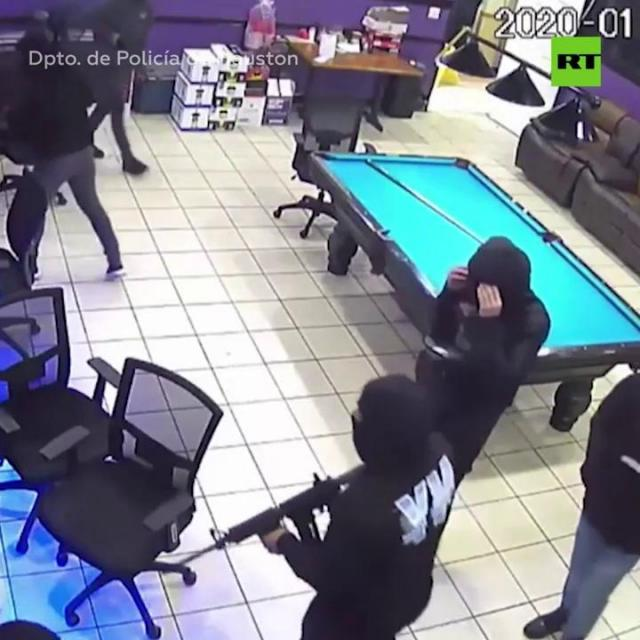weapon: (148, 458, 374, 594)
